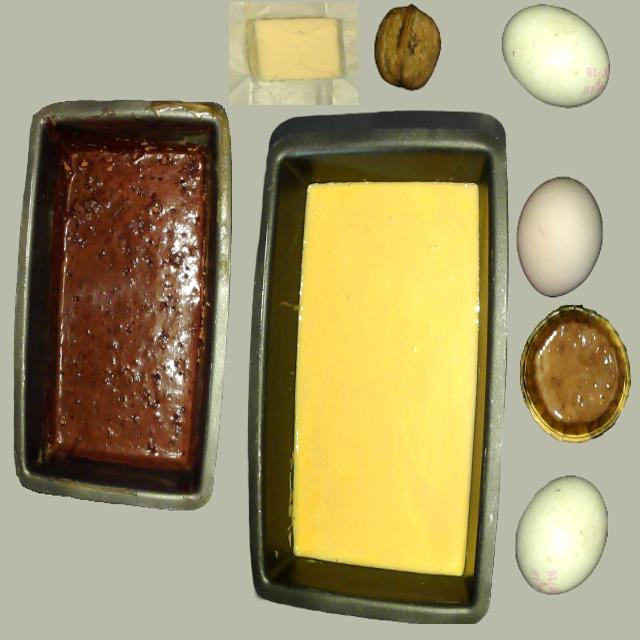Walnut: (374, 5, 441, 90)
